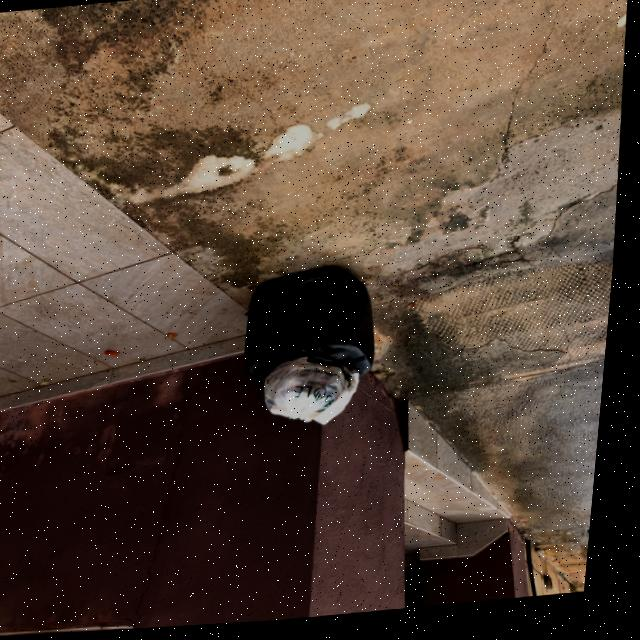Organic Waste -White Bag-: (265, 357, 372, 439)
Other: (241, 263, 401, 392)
